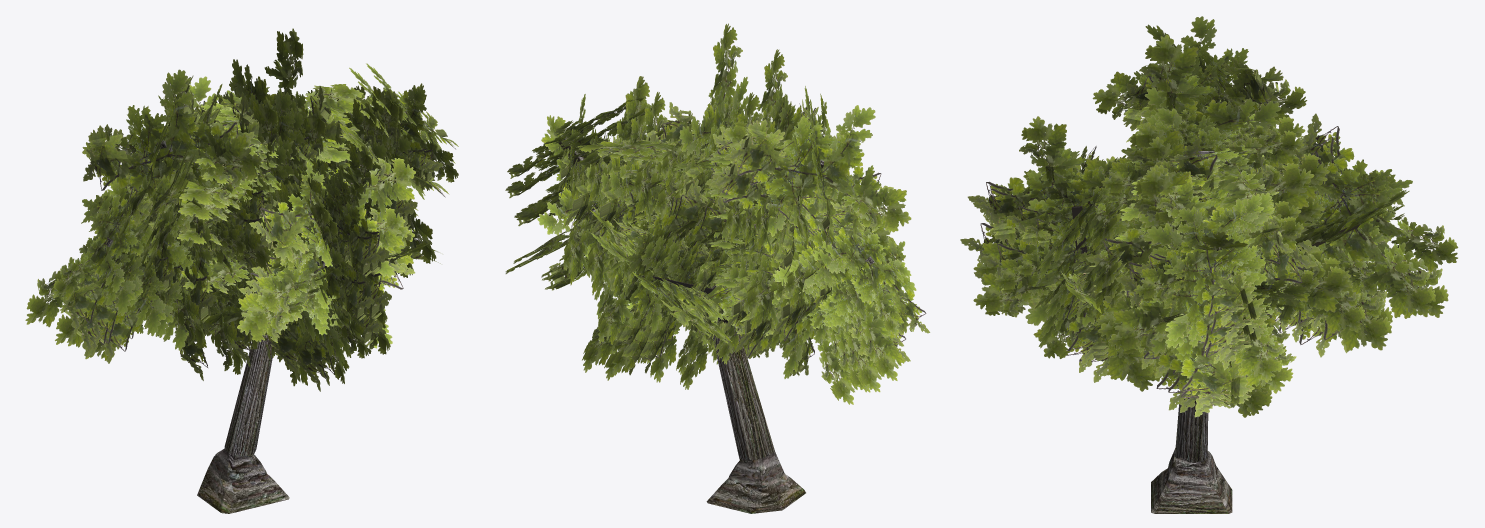
The model's file is Tree3.fbx.
3 renders of one model, left to right at view 1: azimuth 30°, elevation 25°; view 2: azimuth 150°, elevation 25°; view 3: azimuth 270°, elevation 25°, orthographic. The views are drawn at different scales.
Visible parts, largest first — view 1: 22882-1-tree-branch-transparent-image.419; view 2: 22882-1-tree-branch-transparent-image.419; view 3: 22882-1-tree-branch-transparent-image.419.
Part boxes in pixels (<box>): 22882-1-tree-branch-transparent-image.419: <box>25,28,458,513</box>; 22882-1-tree-branch-transparent-image.419: <box>505,23,930,513</box>; 22882-1-tree-branch-transparent-image.419: <box>960,16,1458,513</box>.
Size of the model in its own units: 2047 by 2193 by 2094.
Materials: 2 (2 with a texture image).
